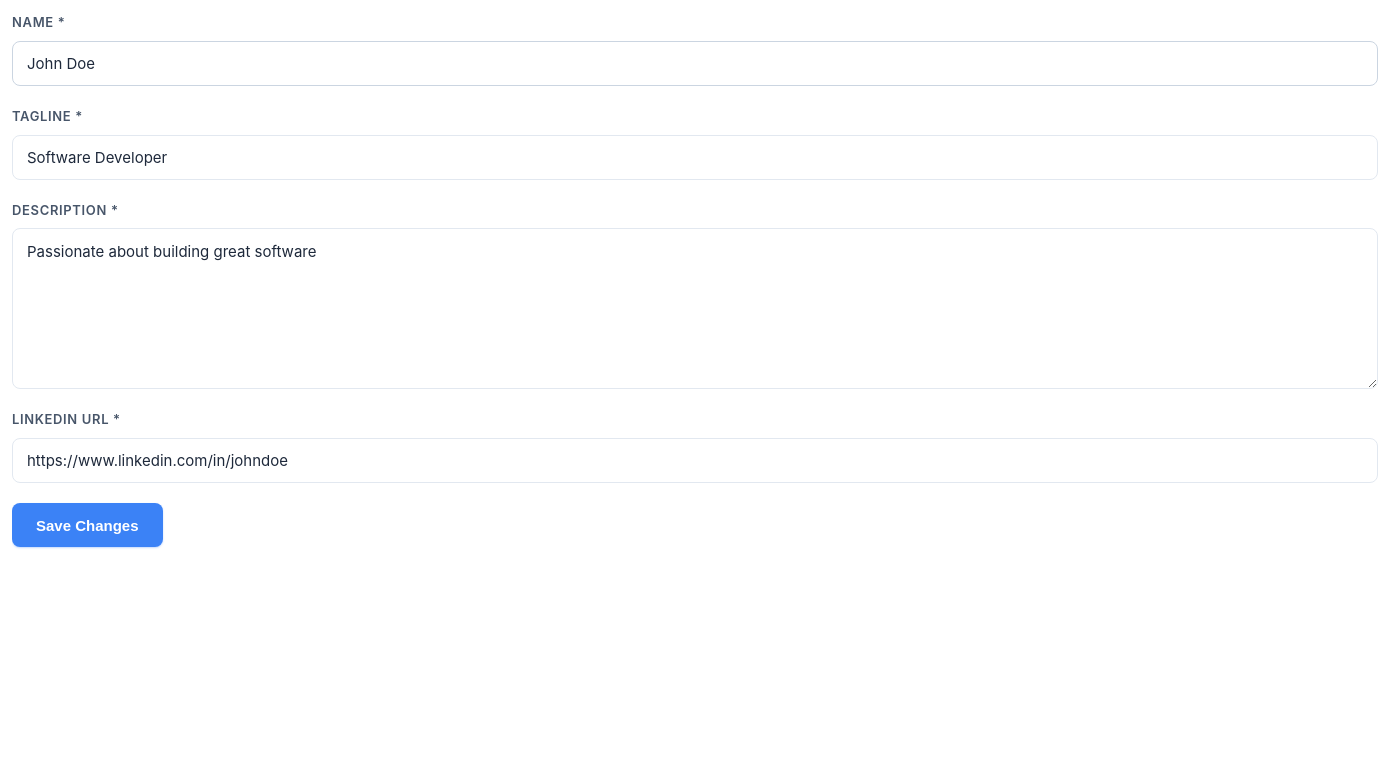
Test: PersonalInfoForm › displays validation errors for field length constraints
The width and height of the screenshot is (1390, 780).
Test name too short
Replace the text in the field labelled "Name *" with "A" at [695, 63], box [12,41,1378,86]
Click the button "Save Changes" at [87, 525], box [12,503,162,547]
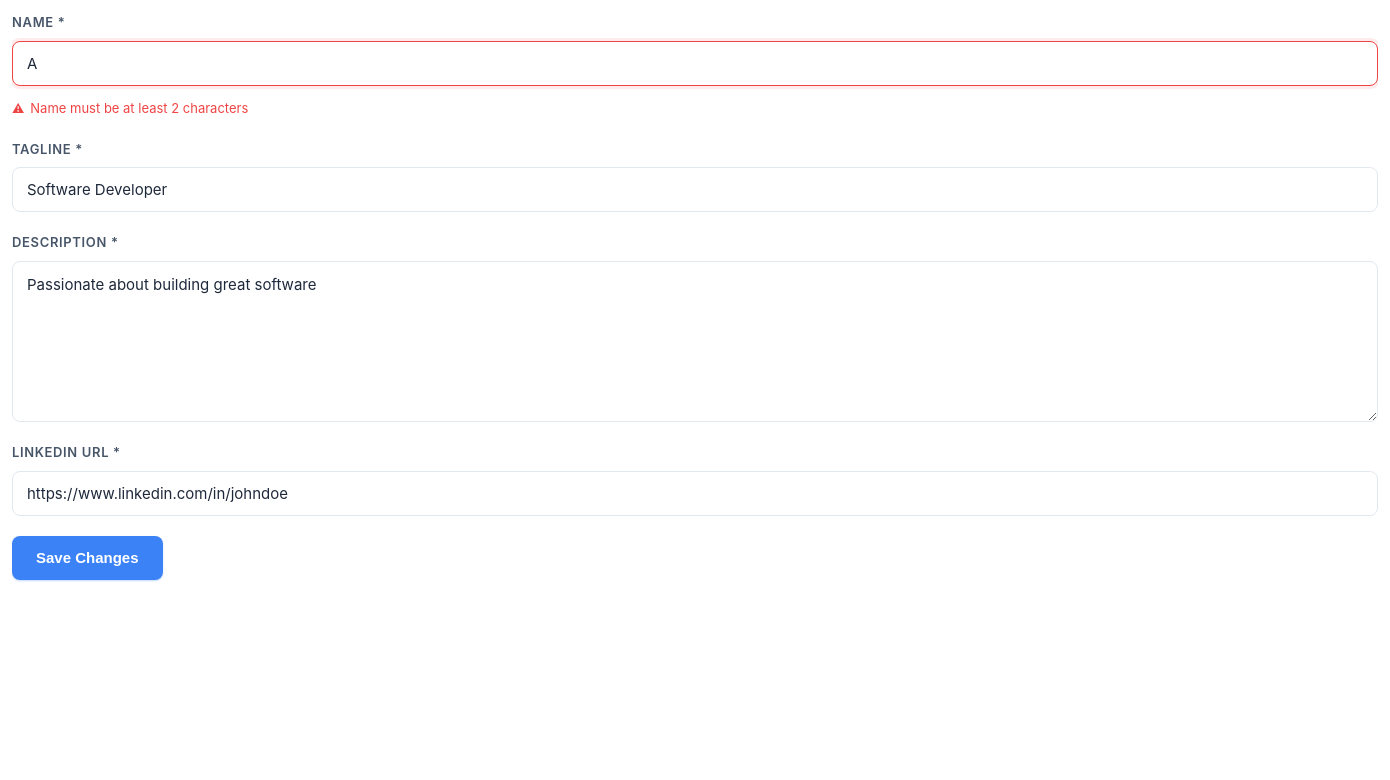
Expected: the text "Name must be at least 2 characters" is shown, [30,100,248,116]
Test tagline too short
Replace the text in the field labelled "Name *" with "John Doe" at [695, 63], box [12,41,1378,86]
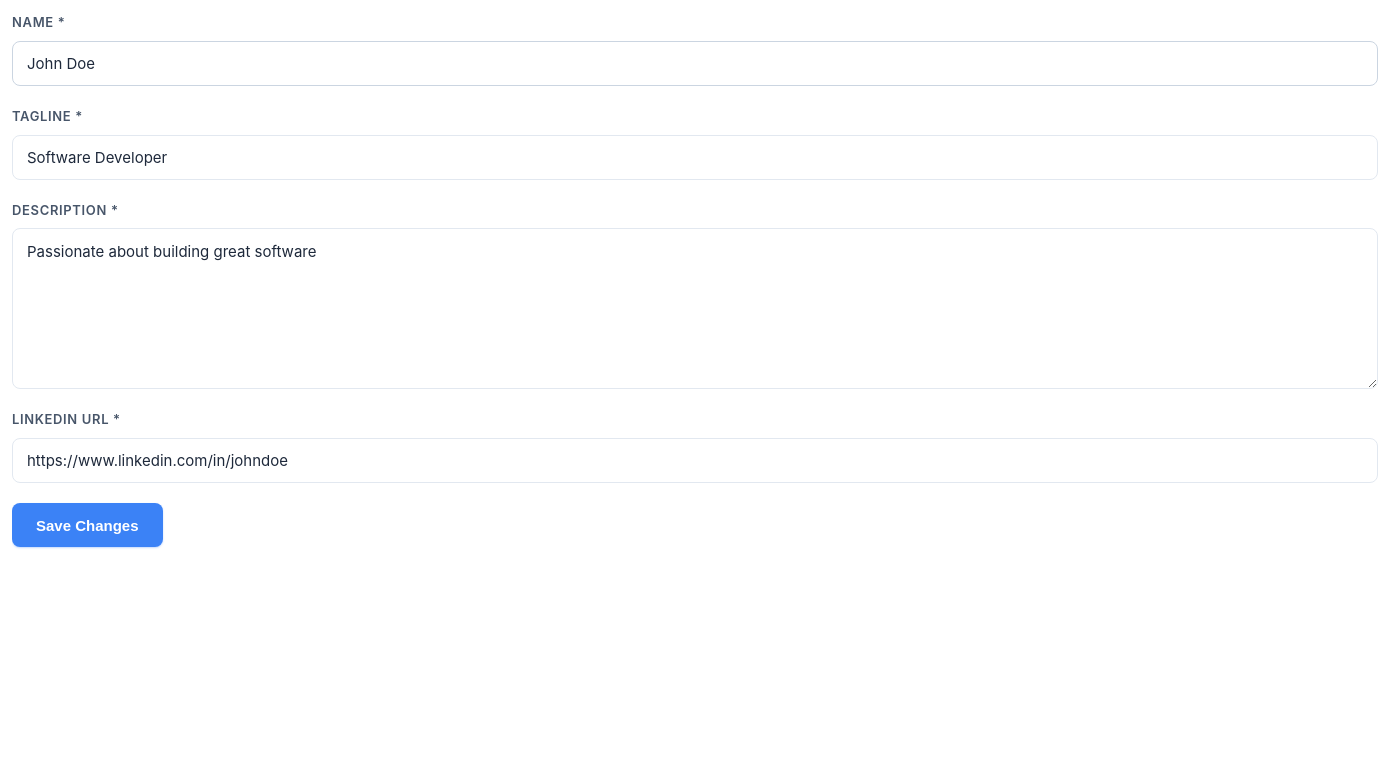
Replace the text in the field labelled "Tagline *" with "Dev" at [695, 157], box [12,135,1378,180]
Click the button "Save Changes" at [87, 525], box [12,503,162,547]
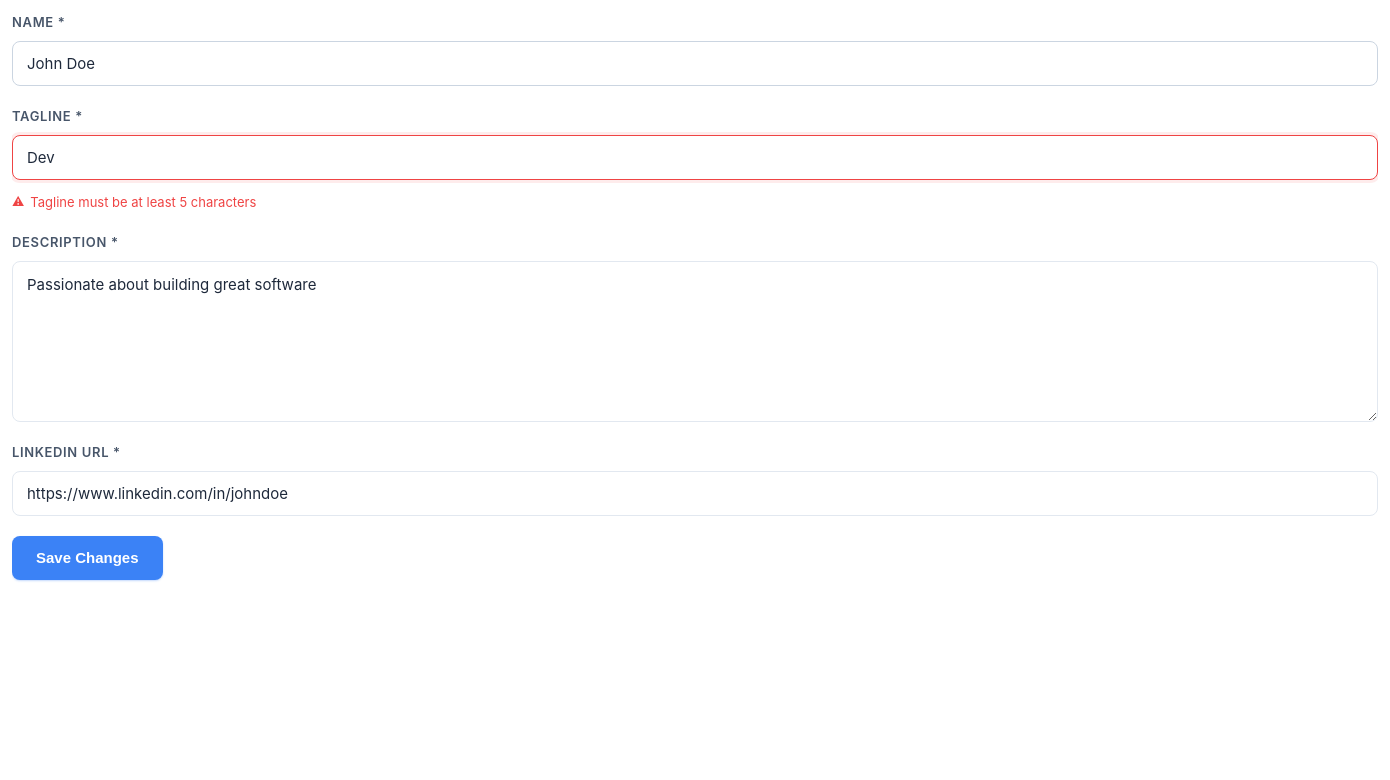
Expected: the text "Tagline must be at least 5 characters" is shown, [30,194,256,210]
Test description too short
Replace the text in the field labelled "Tagline *" with "Developer" at [695, 157], box [12,135,1378,180]
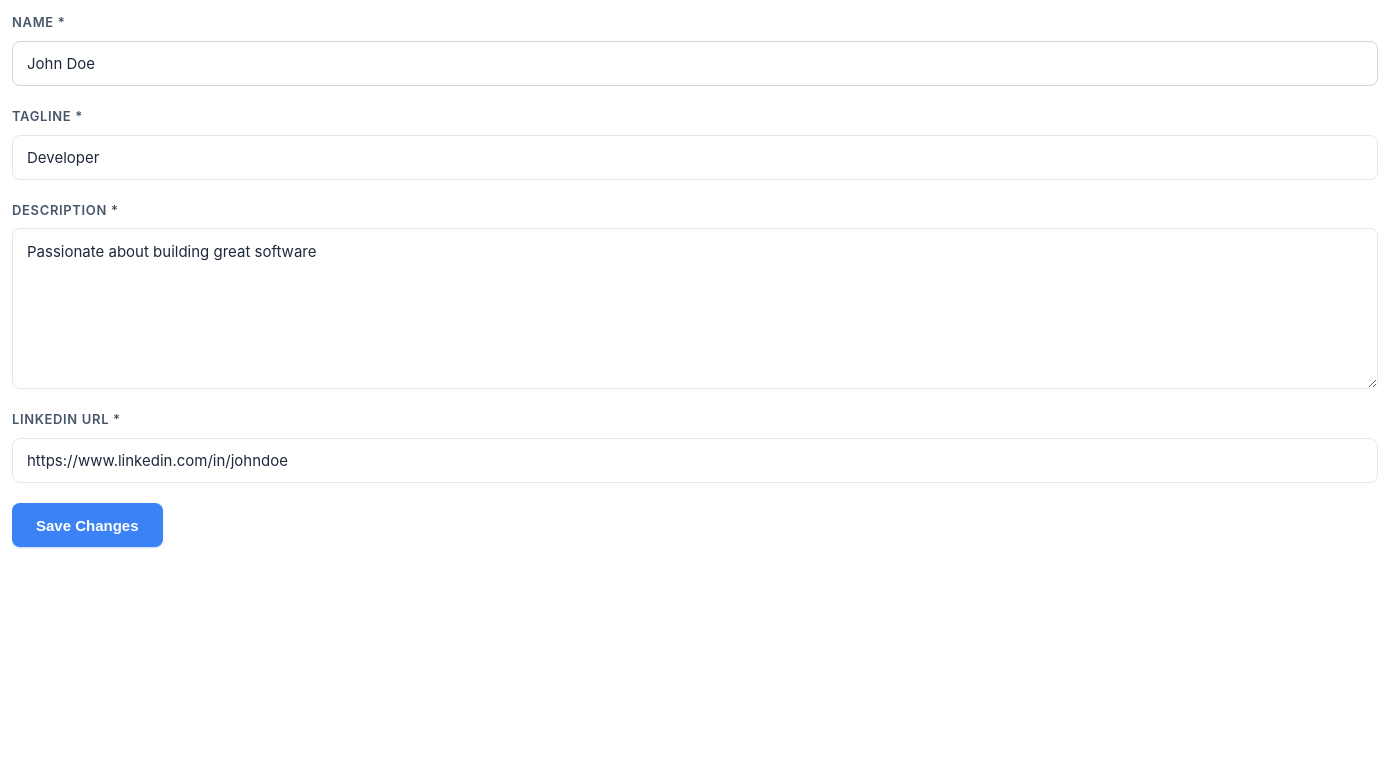
Replace the text in the text box labelled "Description *" with "Short" at [695, 309], box [12,228,1378,389]
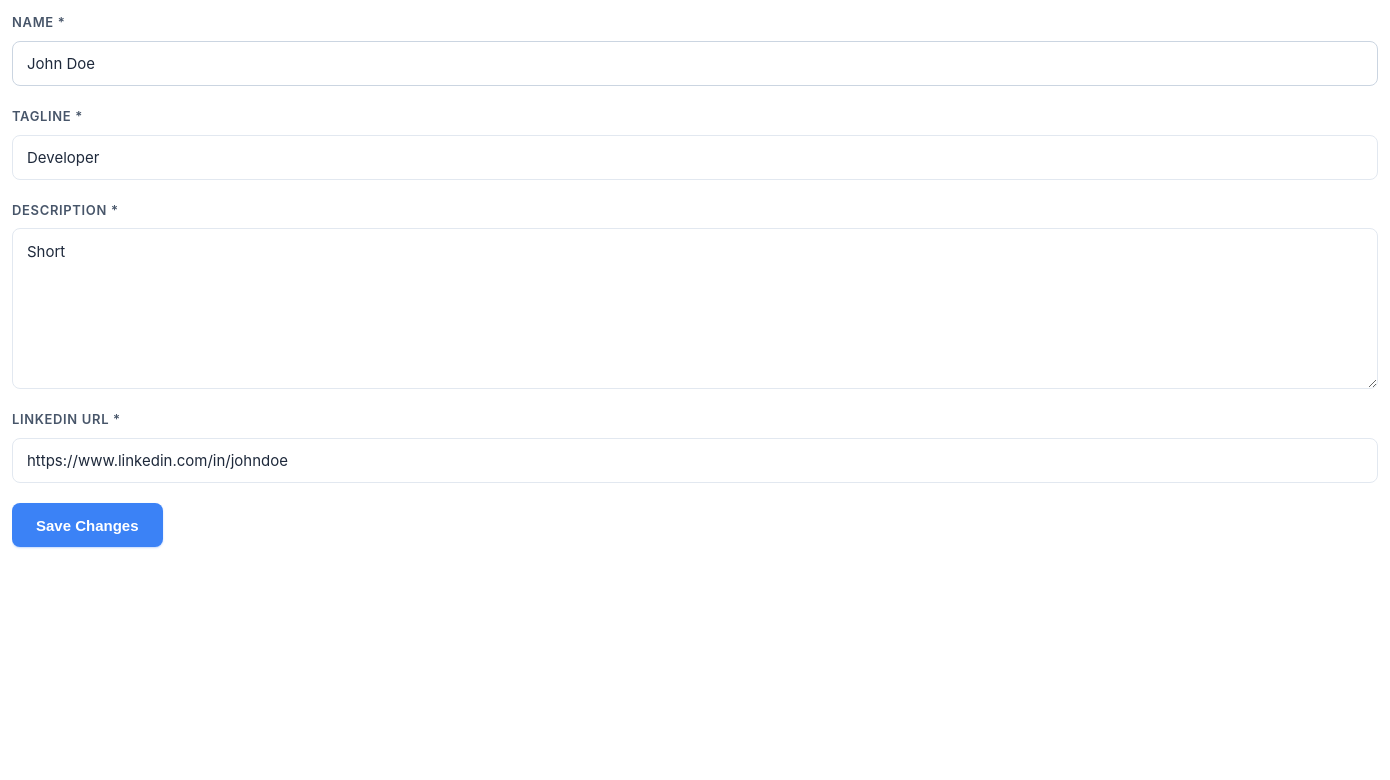
Click the button "Save Changes" at [87, 525], box [12,503,162,547]
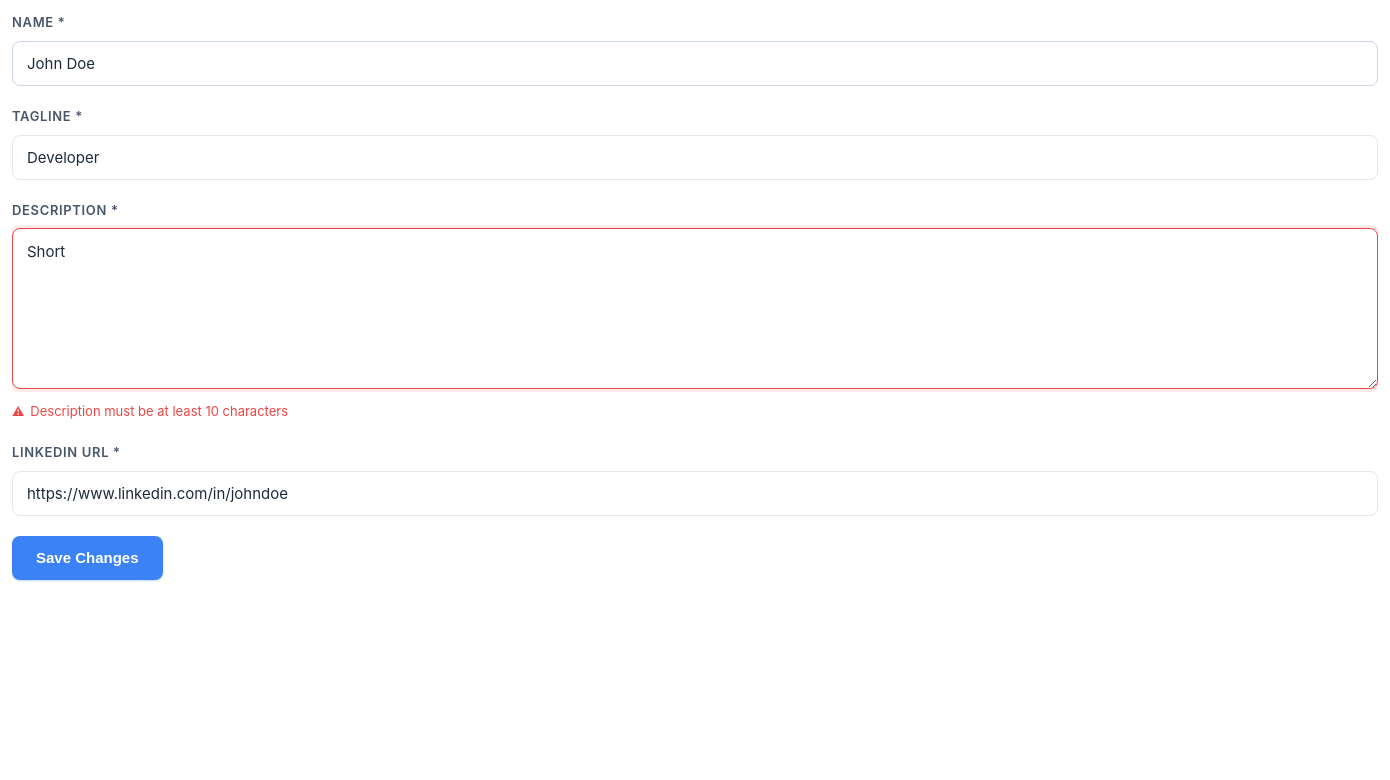
Expected: the text "Description must be at least 10 characters" is shown, [30,403,288,419]
